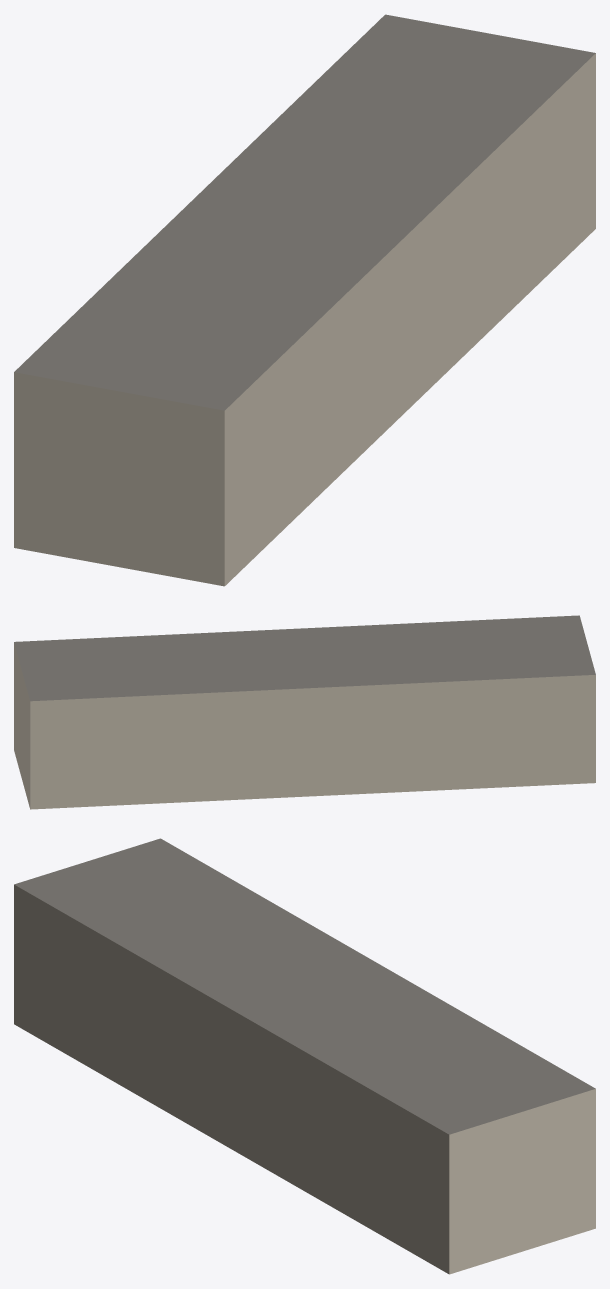
3 views of the same model, one above another, from view 1: azimuth 30°, elevation 25°; view 2: azimuth 150°, elevation 25°; view 3: azimuth 270°, elevation 25° (orthographic). The views are drawn at different scales.
Parts seen in each view (by area): view 1: HP-w50417968; view 2: HP-w50417968; view 3: HP-w50417968.
Part boxes in pixels (left/top/right/bottom): HP-w50417968: left=14, top=14, right=595, bottom=586; HP-w50417968: left=14, top=615, right=595, bottom=809; HP-w50417968: left=14, top=838, right=595, bottom=1274.
Bounding box in the file's own units: 81.81 × 18 × 67.9.
